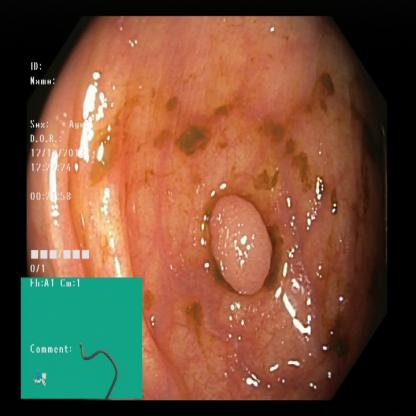Labels: (29, 60, 103, 278), (20, 276, 142, 398)
Polyps: (204, 186, 280, 308)
